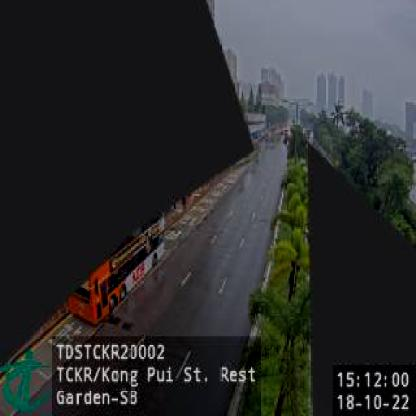Bus: (66, 210, 165, 327)
